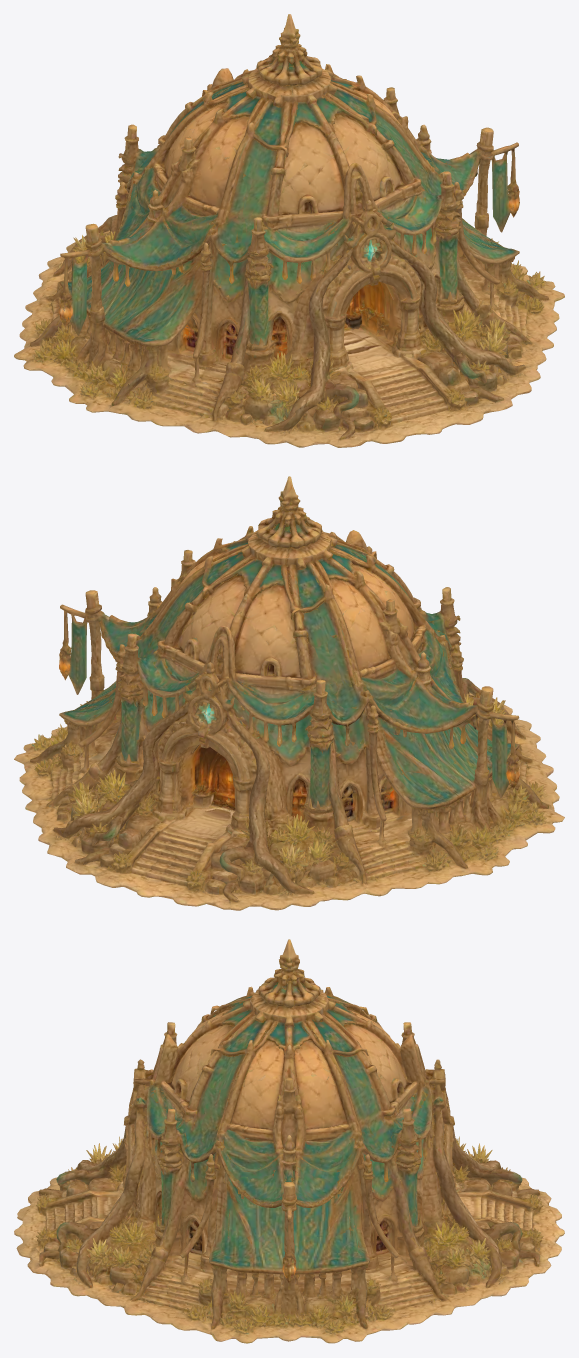
File: elder-communal-dome.glb
3 renders of one model, top to bottom at view 1: azimuth 30°, elevation 25°; view 2: azimuth 150°, elevation 25°; view 3: azimuth 270°, elevation 25°, orthographic. The views are drawn at different scales.
Bounding box in the file's own units: 1.81 × 1.12 × 1.9.
Materials: 1 (1 with a texture image).
